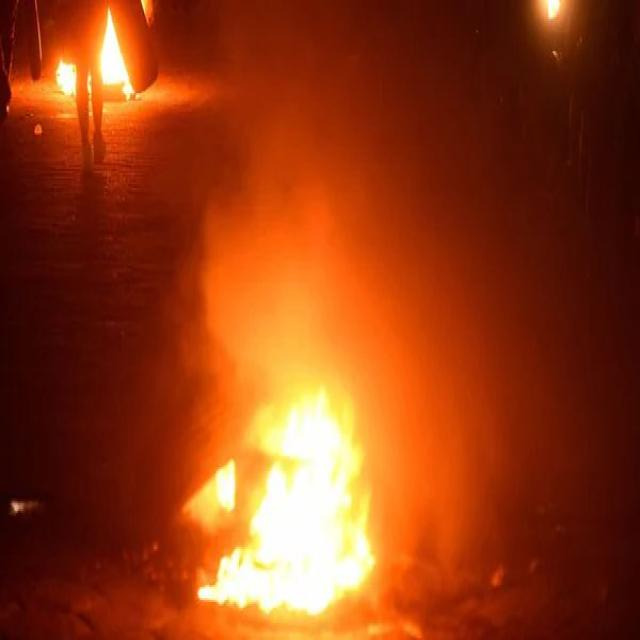fire: (198, 392, 375, 613), (102, 9, 133, 102)
